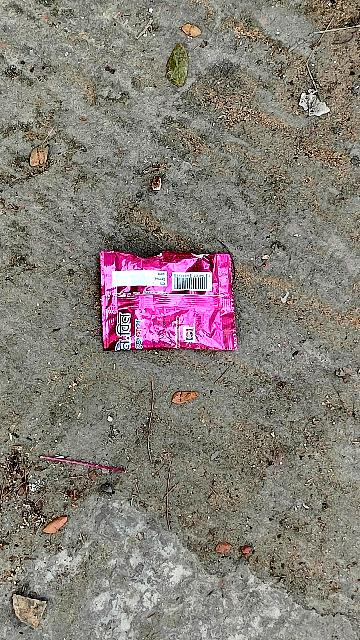packet: (86, 242, 257, 363)
